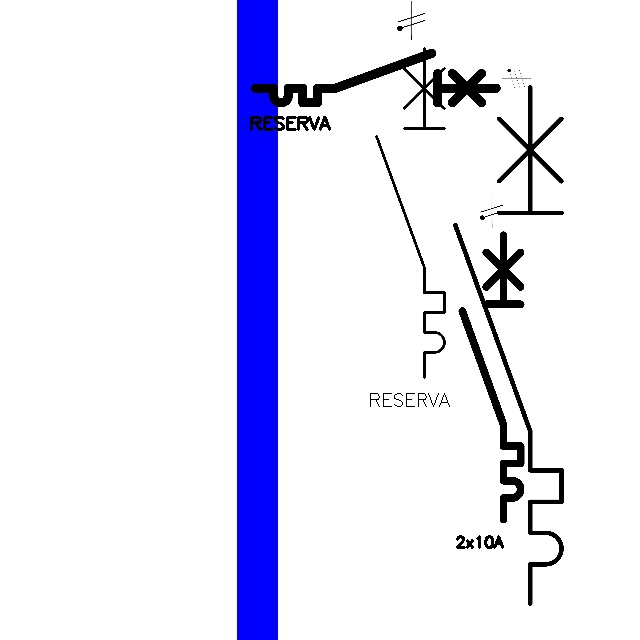interruptor_termomagnetico: (442, 74, 575, 617), (368, 40, 453, 386), (455, 227, 528, 526), (249, 47, 502, 109)
